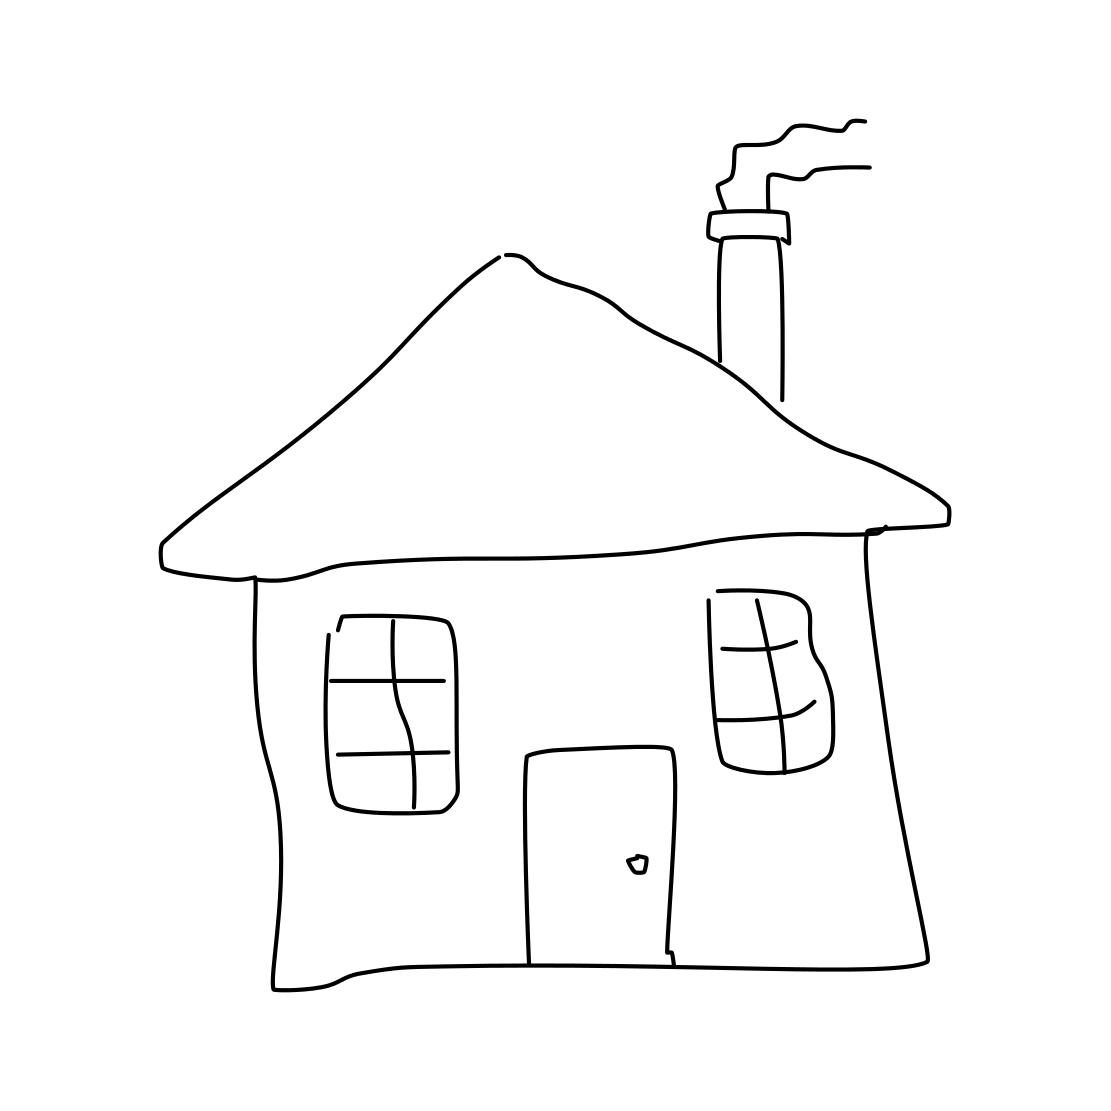chimney: (703, 108, 880, 430)
door: (514, 735, 687, 977)
house: (159, 156, 953, 992)
roof: (99, 222, 984, 590)
wall: (219, 582, 945, 992)
window: (316, 603, 467, 825), (702, 583, 836, 776)
